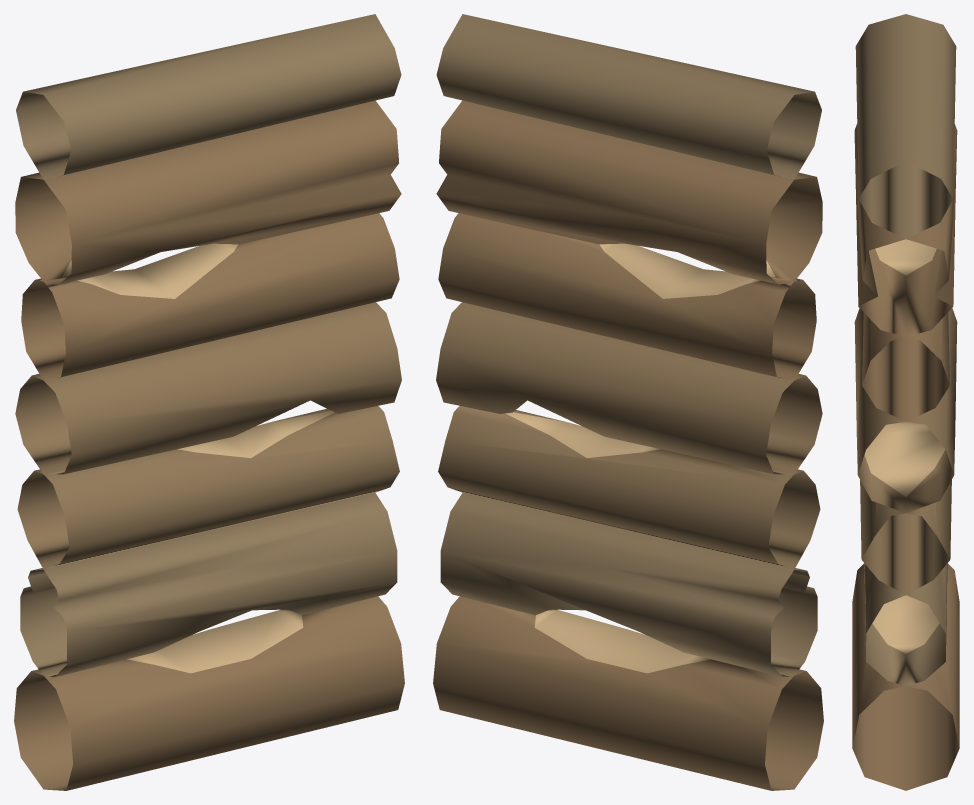
File: rpgpp_av_wall_03_1.5x3_a.fbx
The picture shows the model from 3 angles, left to right: view 1: azimuth 30°, elevation 25°; view 2: azimuth 150°, elevation 25°; view 3: azimuth 270°, elevation 25°; orthographic projection. The views are drawn at different scales.
Visible parts, largest first — view 1: rpgpp_av_wall_03_1.5x3_a; view 2: rpgpp_av_wall_03_1.5x3_a; view 3: rpgpp_av_wall_03_1.5x3_a.
Boxes of the visible parts, box(x1,y1,x2,y2) form: rpgpp_av_wall_03_1.5x3_a: box(14, 14, 404, 790); rpgpp_av_wall_03_1.5x3_a: box(433, 14, 823, 790); rpgpp_av_wall_03_1.5x3_a: box(852, 14, 959, 790).
Bounding box in the file's own units: 1.5 × 3 × 0.4626.
